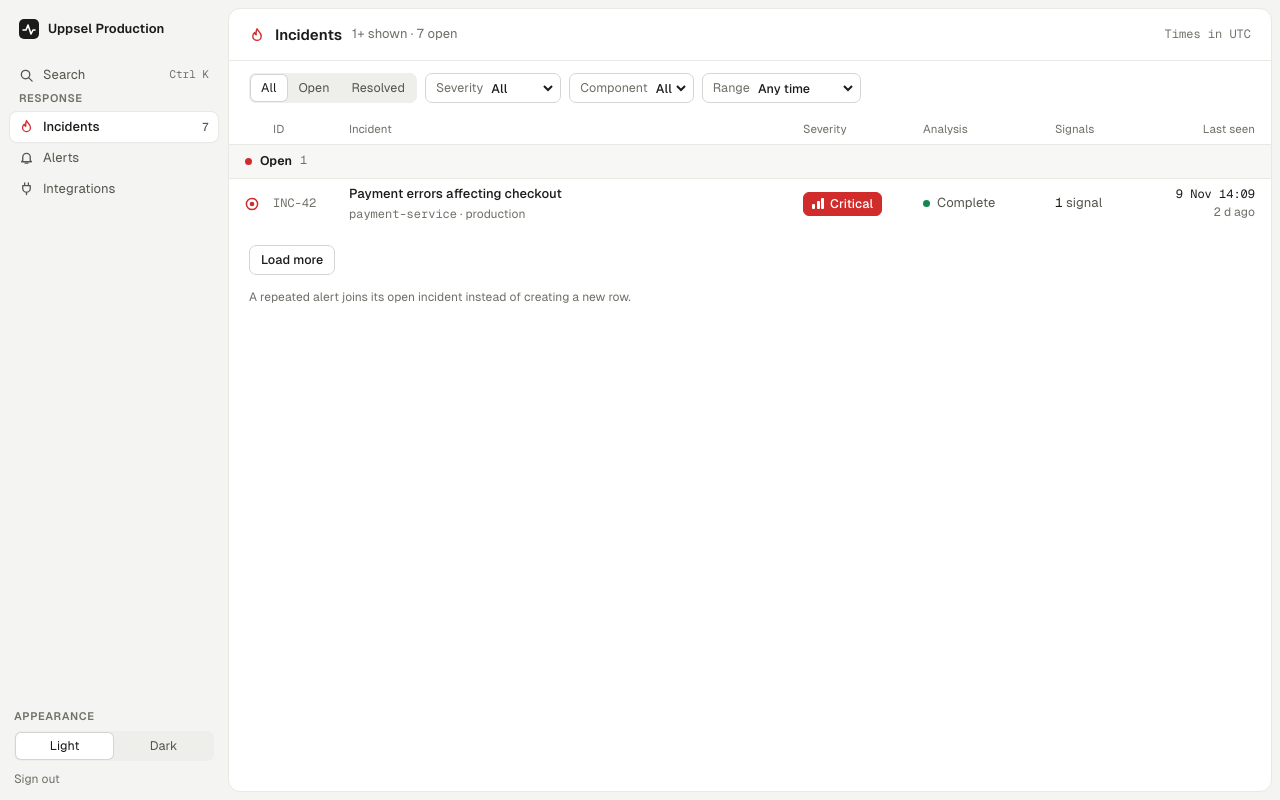
Scenario: incident list › loads more with the cursor
Click the button "Load more" at (292, 260), box [249, 245, 335, 275]
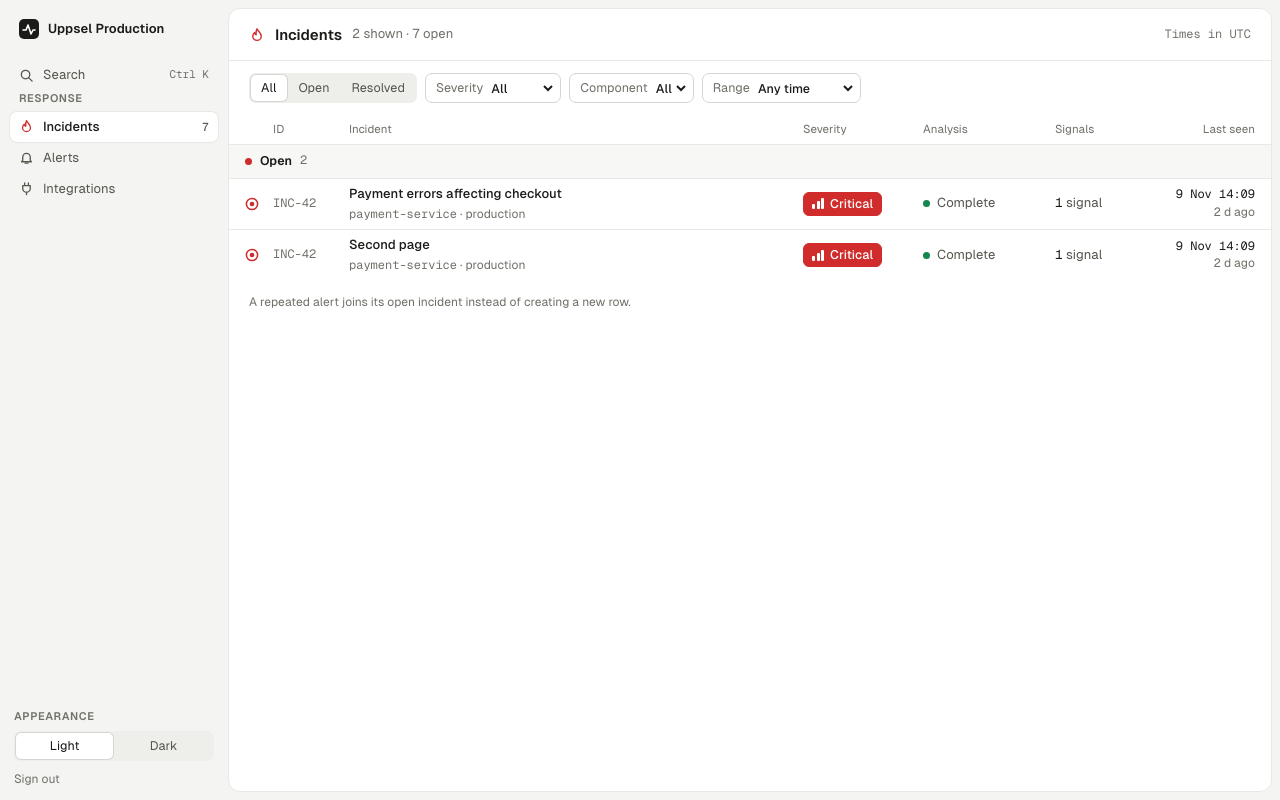
Now the link "Second page" is shown, box [349, 237, 430, 252]
Now the button "Load more" is gone
